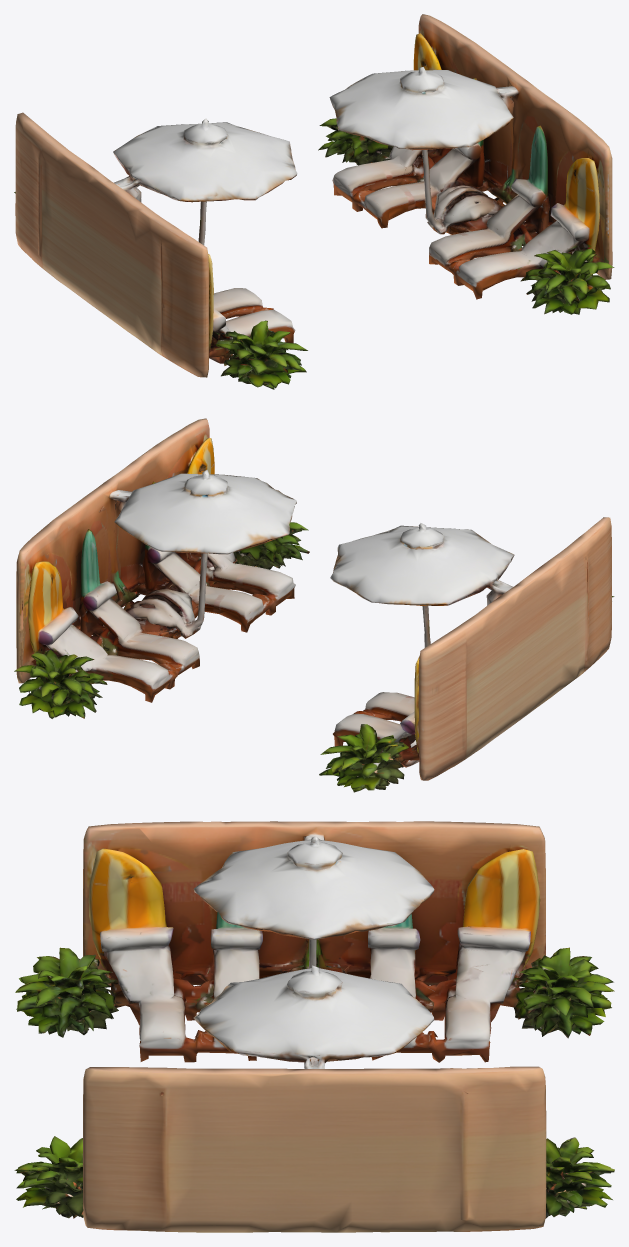
File: beach.glb
3 views of the same model, one above another, from view 1: azimuth 30°, elevation 25°; view 2: azimuth 150°, elevation 25°; view 3: azimuth 270°, elevation 25° (orthographic). The views are drawn at different scales.
Bounding box in the file's own units: 1.92 × 0.7714 × 1.91.
Materials: 1 (1 with a texture image).
